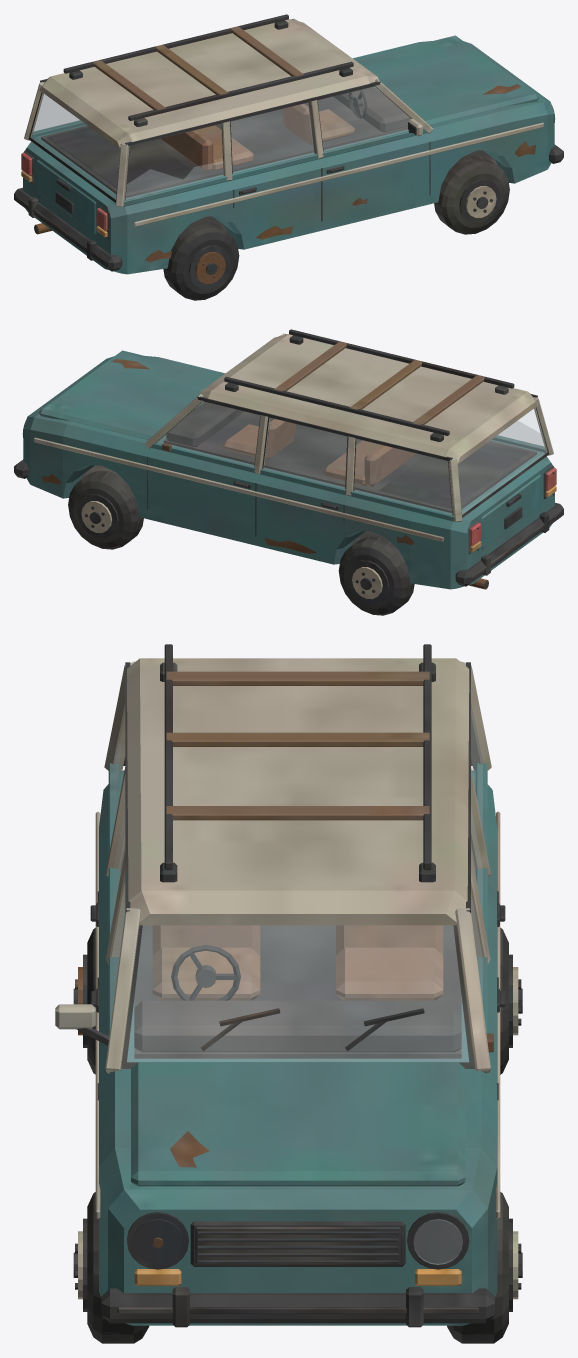
The model's file is CV07_station_wagon.glb.
3 renders of one model, top to bottom at view 1: azimuth 30°, elevation 25°; view 2: azimuth 150°, elevation 25°; view 3: azimuth 270°, elevation 25°, orthographic. The views are drawn at different scales.
Visible parts, largest first — view 1: Pressed steel body with wheel openings; view 2: Pressed steel body with wheel openings; view 3: Pressed steel body with wheel openings.
Part boxes in pixels (x1,y1,x2,y2): Pressed steel body with wheel openings: (14, 14, 563, 300); Pressed steel body with wheel openings: (14, 329, 563, 615); Pressed steel body with wheel openings: (55, 644, 522, 1343).
Bounding box in the file's own units: 4.6 × 1.78 × 2.03.
11 materials, 10 textured.
